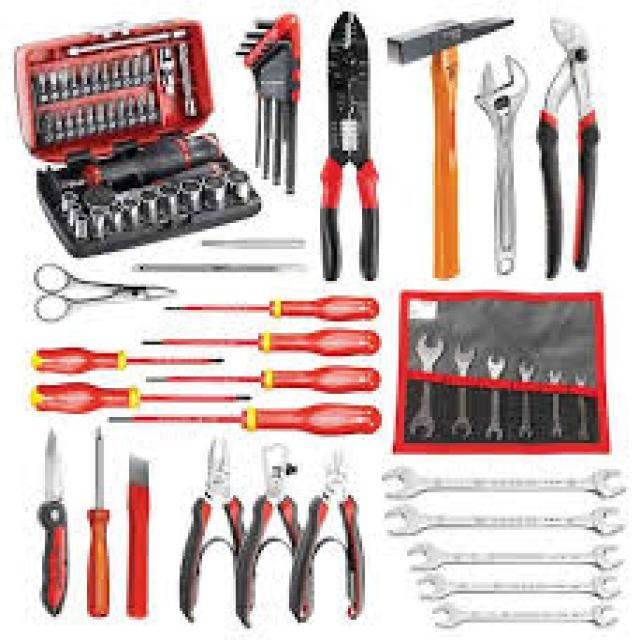wrench: (475, 51, 536, 273)
